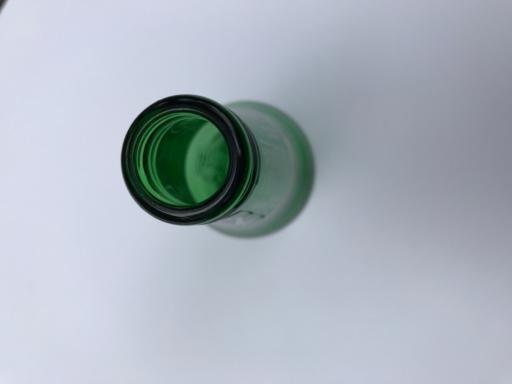botolkaca: (121, 94, 316, 240)
